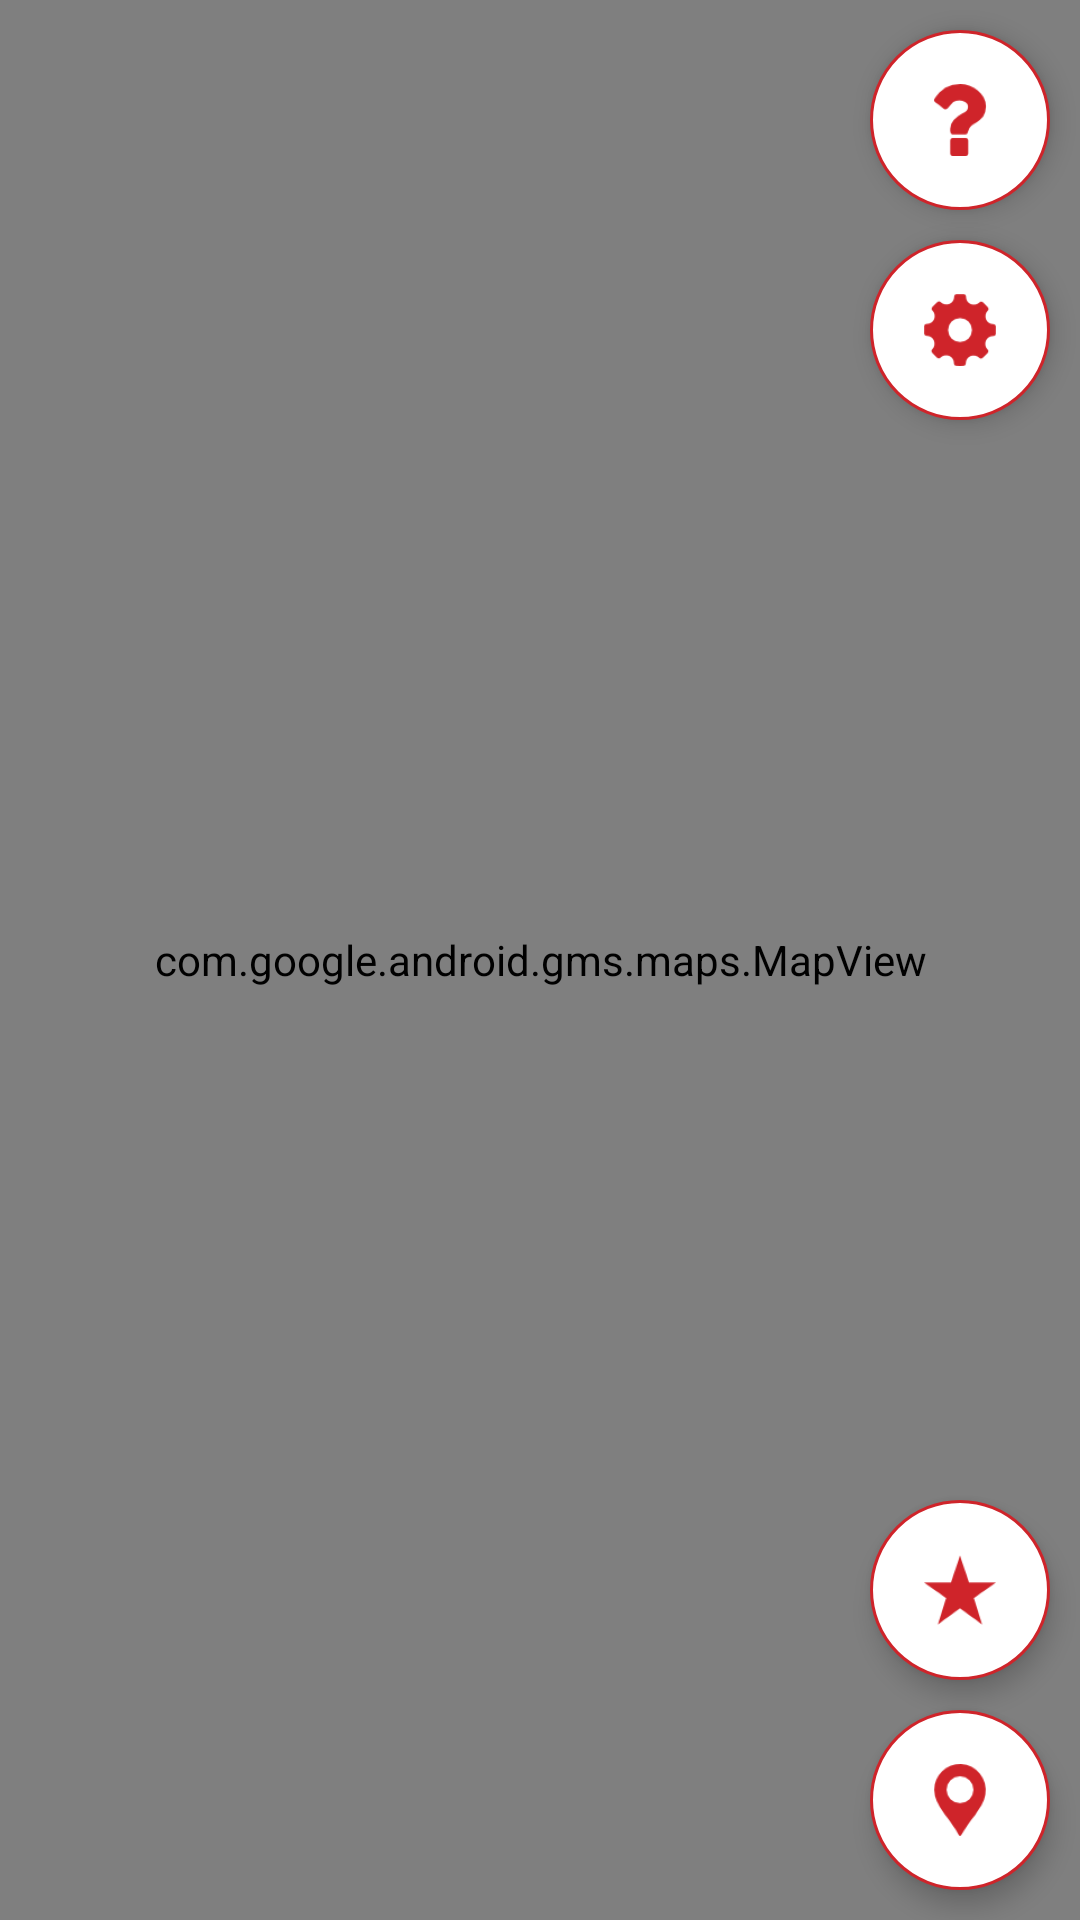

Named icons in this screenshot (1080w x 1920h) and their bounding boxes, (x1, y1, x2, y2):
place: (870, 1710, 1050, 1890)
question: (870, 30, 1050, 210)
settings: (870, 240, 1050, 420)
star: (870, 1500, 1050, 1680)
